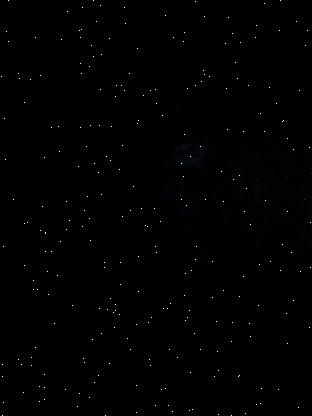Others: (92, 95, 236, 338)
